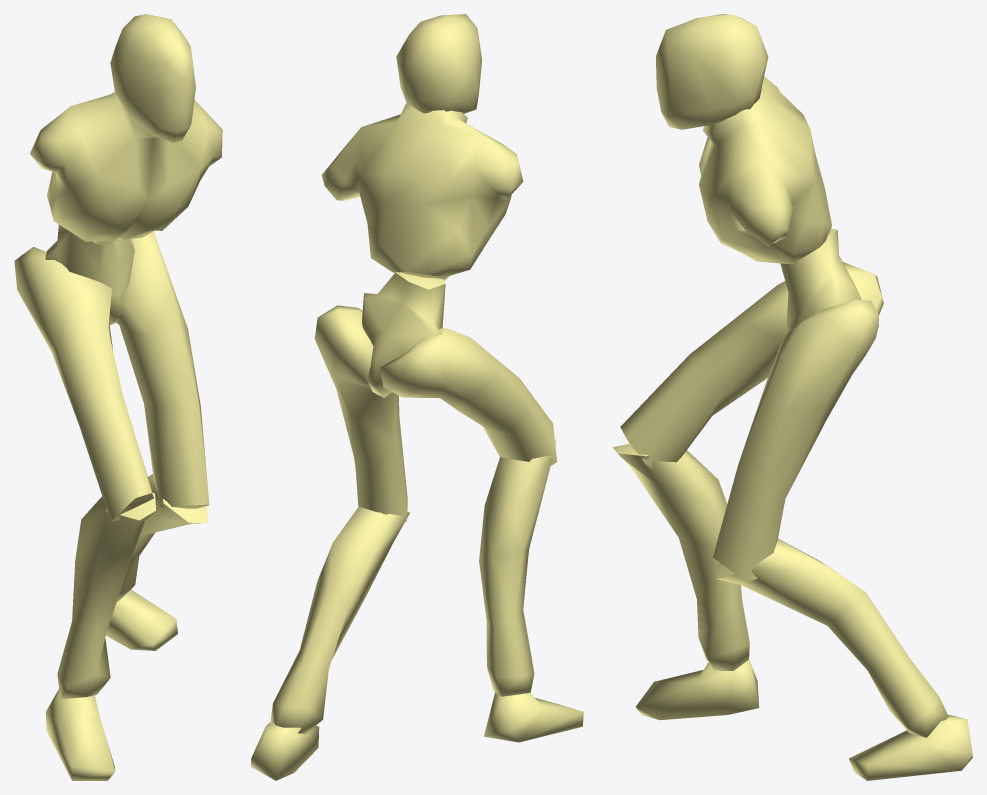
Rendered from filth5.obj.
3 renders of one model, left to right at view 1: azimuth 30°, elevation 25°; view 2: azimuth 150°, elevation 25°; view 3: azimuth 270°, elevation 25°, orthographic. The views are drawn at different scales.
Parts seen in each view (by area): view 1: Melee_Husk; view 2: Melee_Husk; view 3: Melee_Husk.
Boxes of the visible parts, left/top/right/bottom form: Melee_Husk: left=14, top=14, right=222, bottom=780; Melee_Husk: left=251, top=14, right=583, bottom=780; Melee_Husk: left=612, top=14, right=972, bottom=780.
Size of the model in its own units: 22.17 by 72.48 by 31.9.
